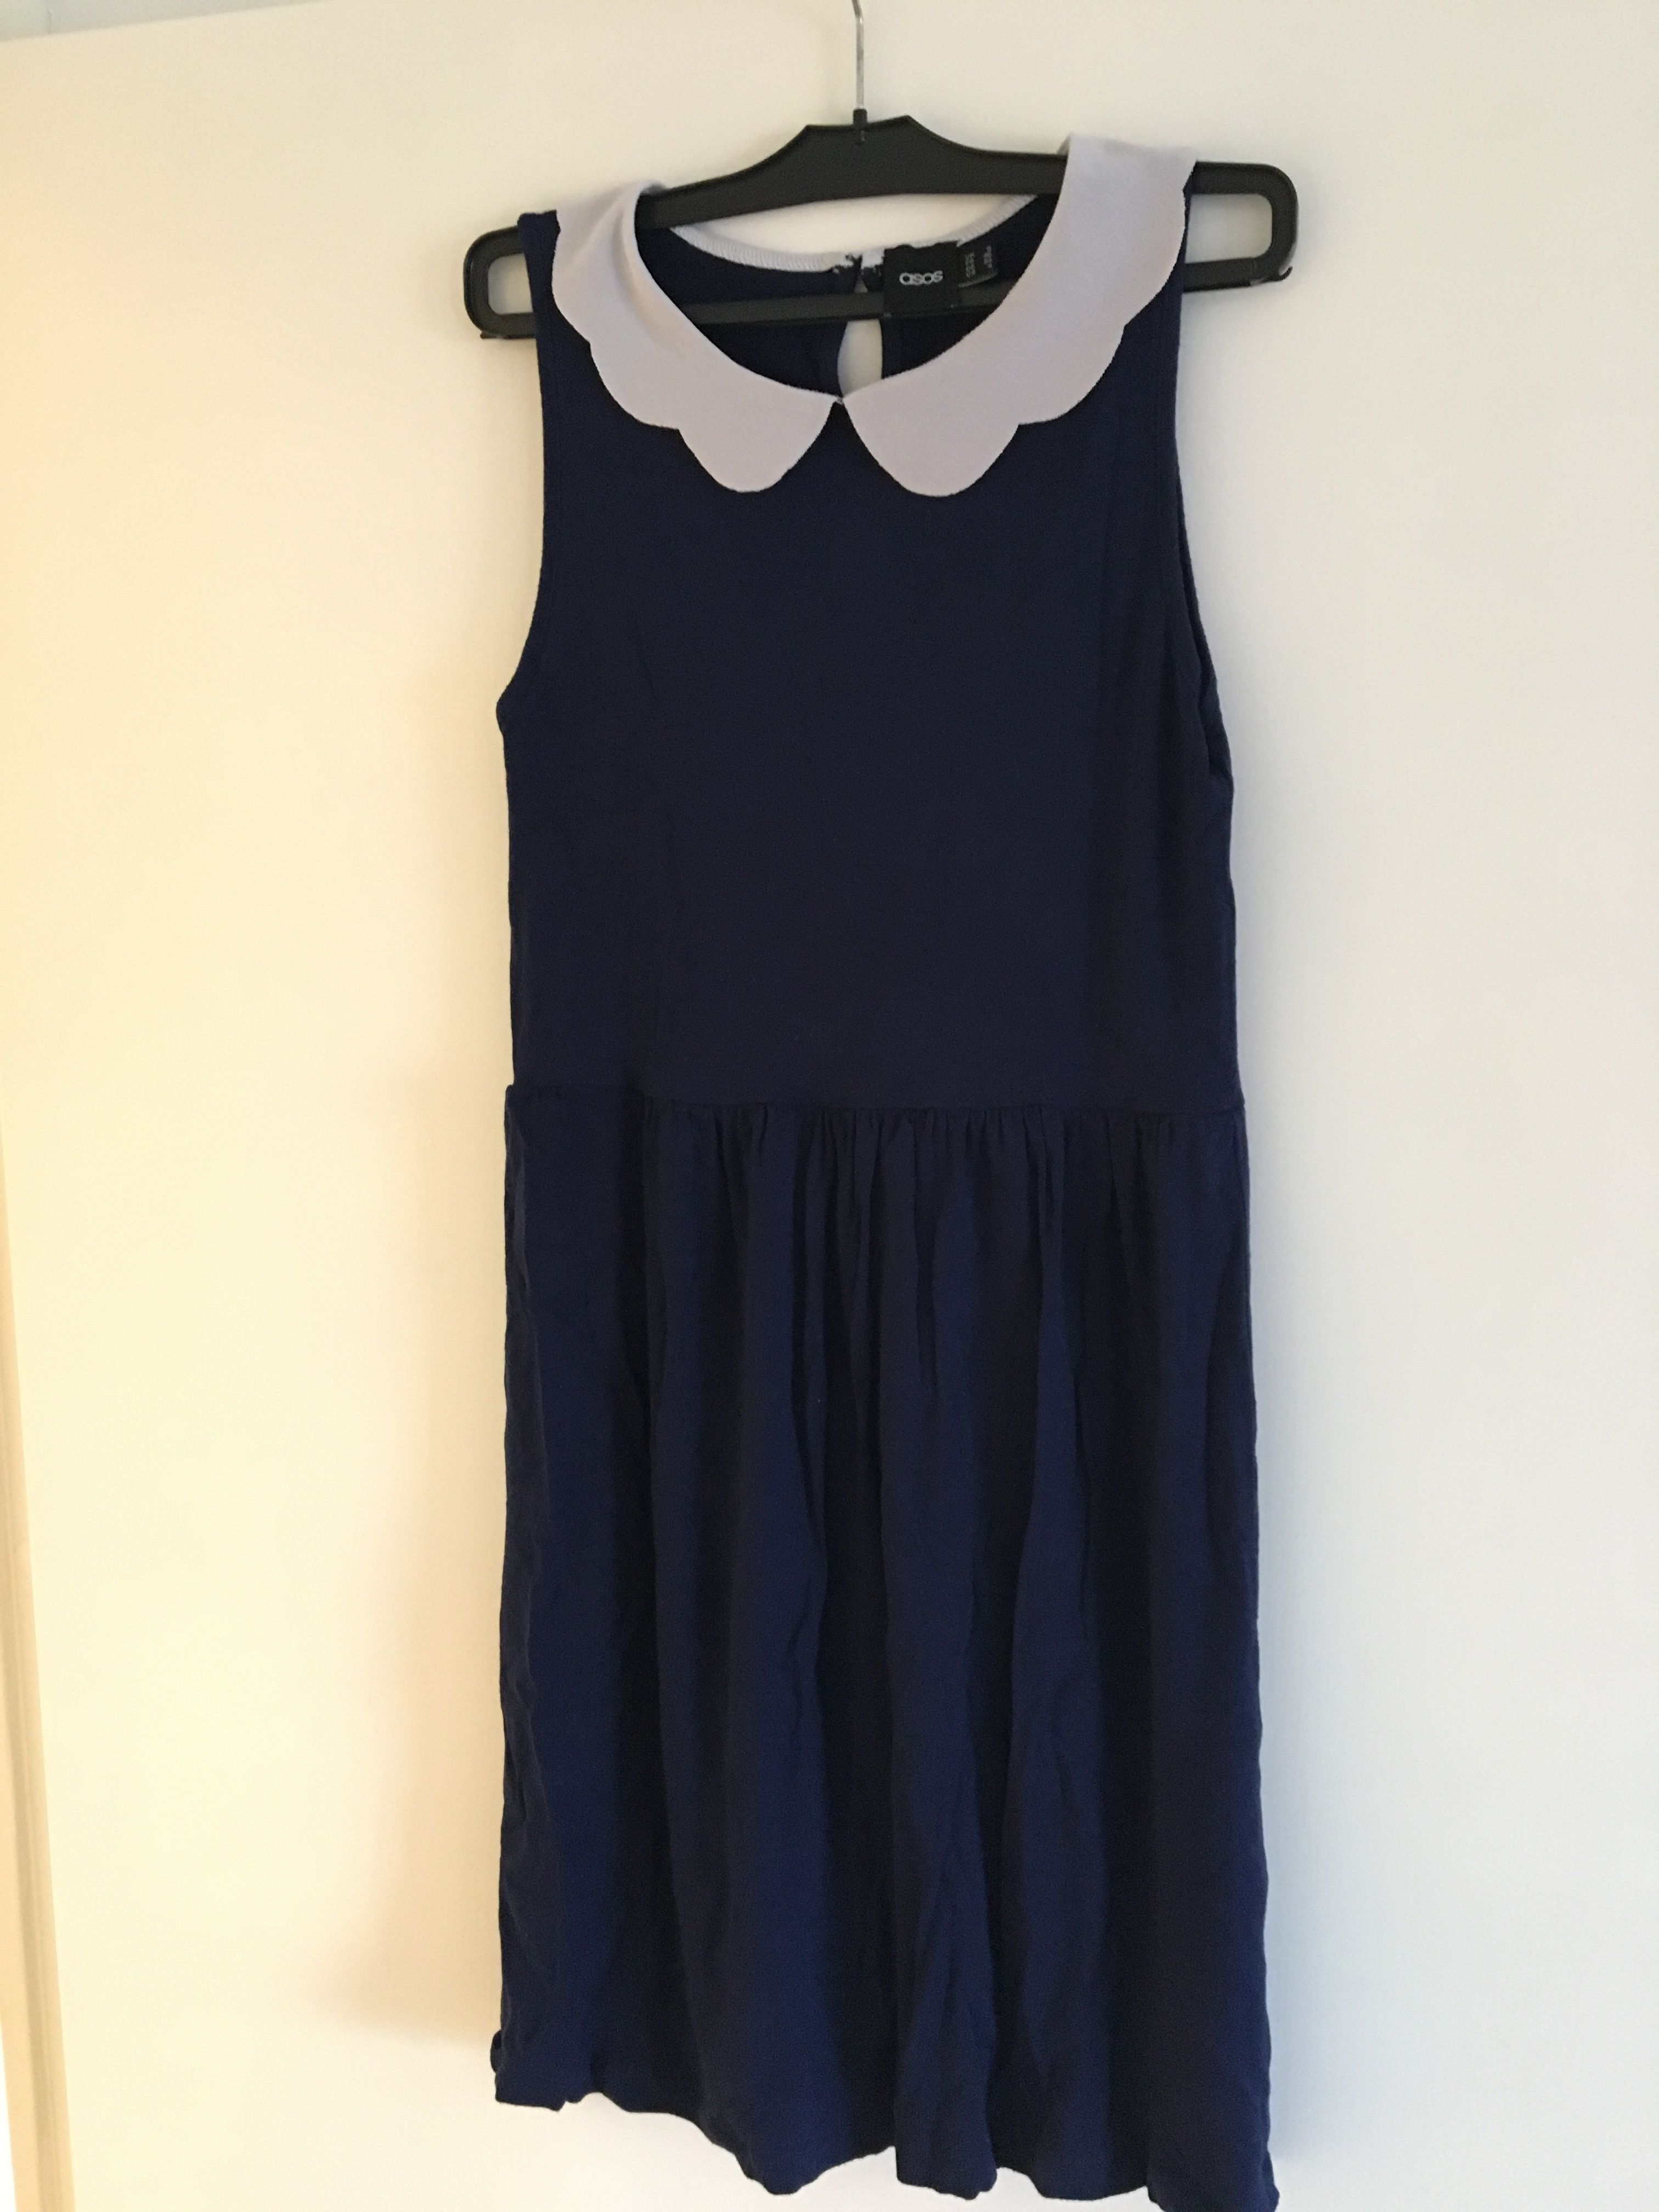clothes: (469, 138, 1279, 2196)
